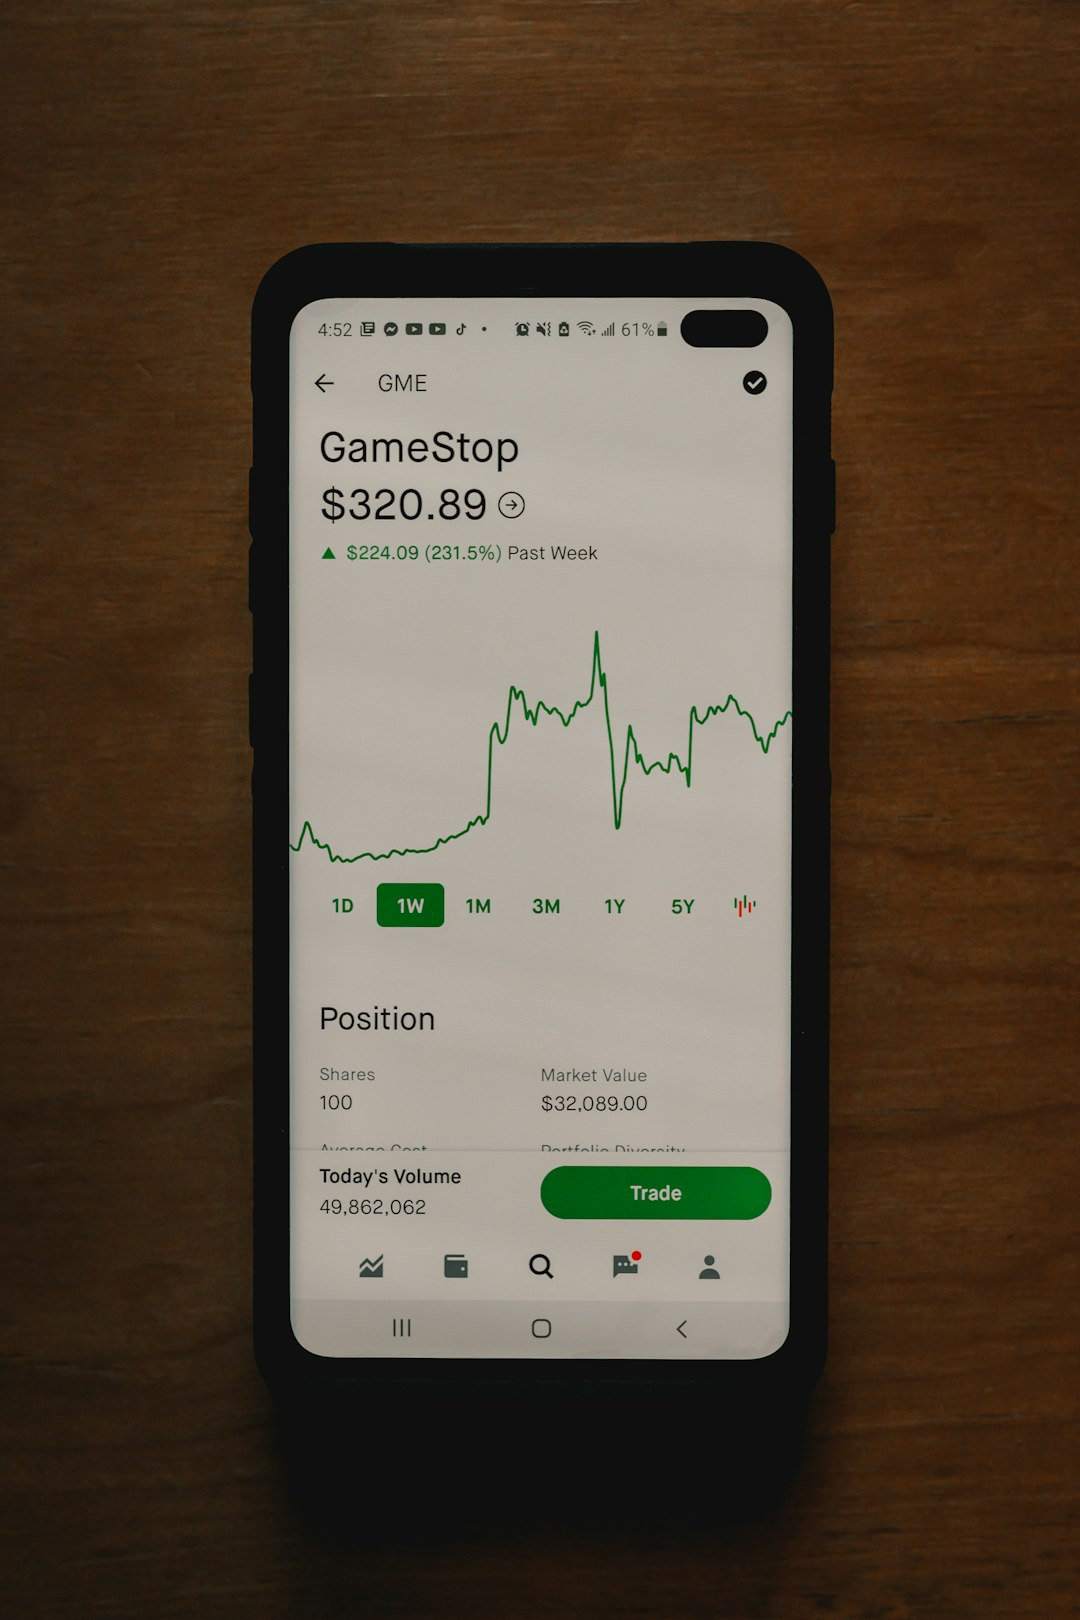phone: (250, 235, 829, 1402)
